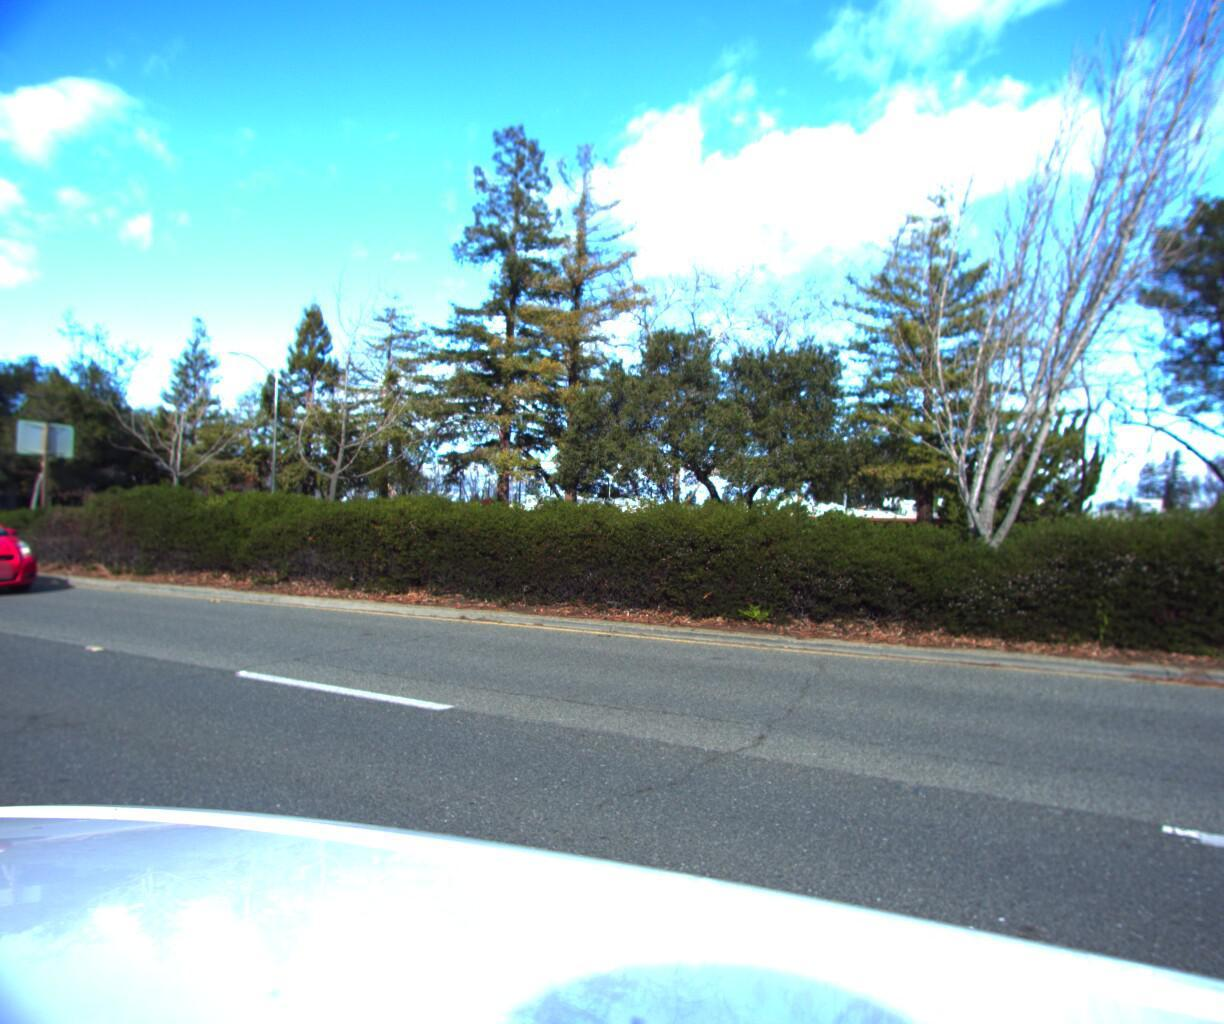car: (0, 501, 60, 606)
